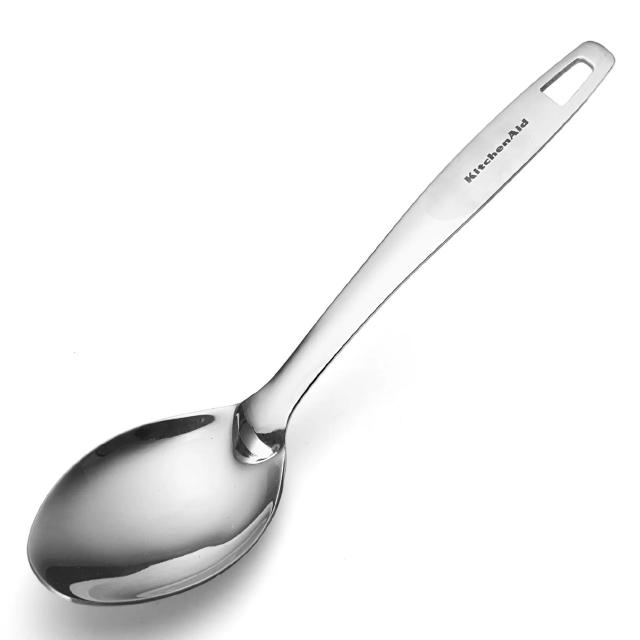spoon: (28, 32, 618, 620)
